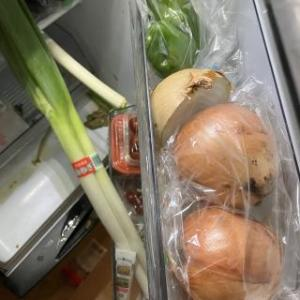onion: (0, 0, 150, 300), (172, 103, 280, 210), (172, 206, 286, 300), (38, 31, 128, 110), (149, 68, 233, 150)
